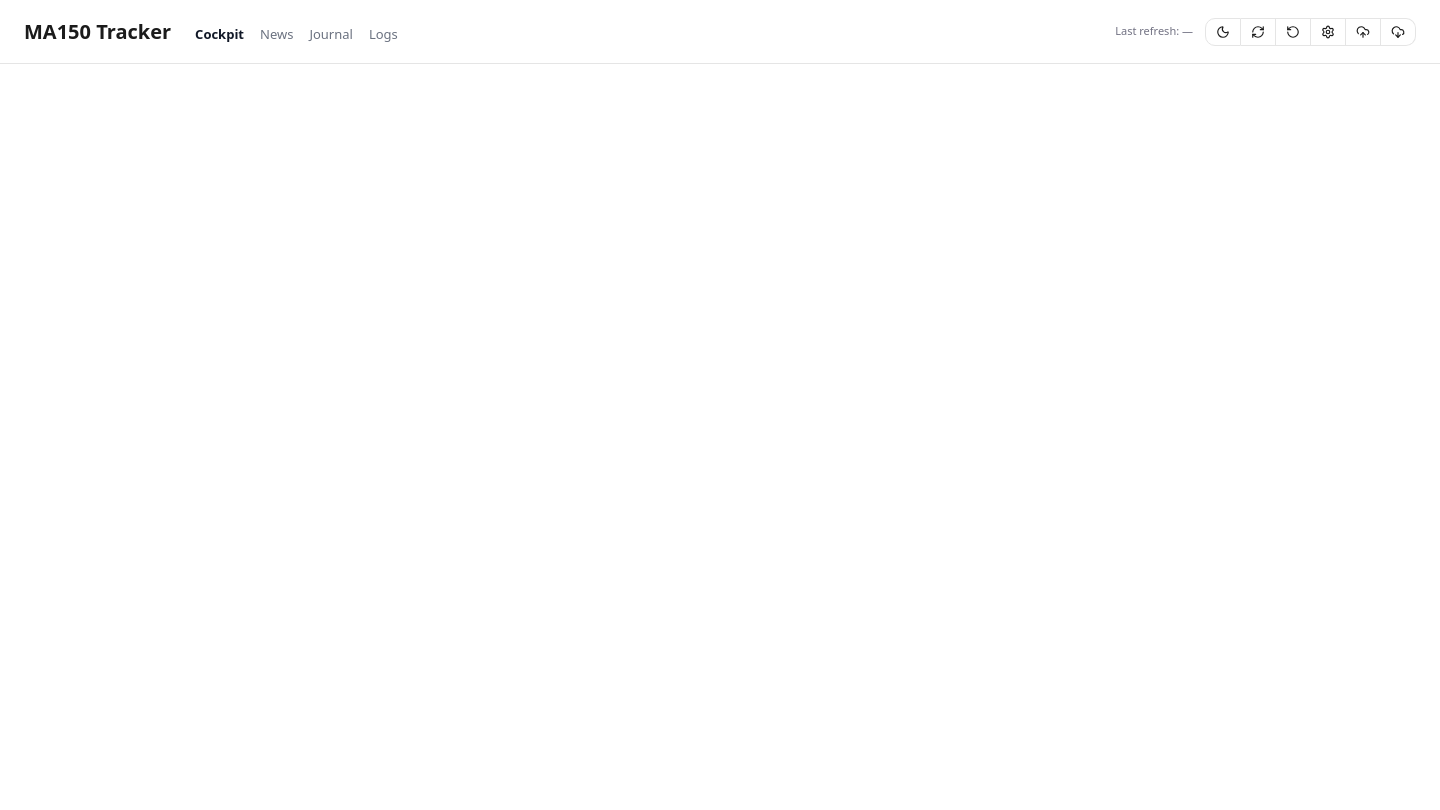
Test case: S13 – settings dialog open/close via TopNav › clicking Cancel in dialog closes it
Click the button named "用户设置" at (1328, 32), box [1311,18,1346,46]
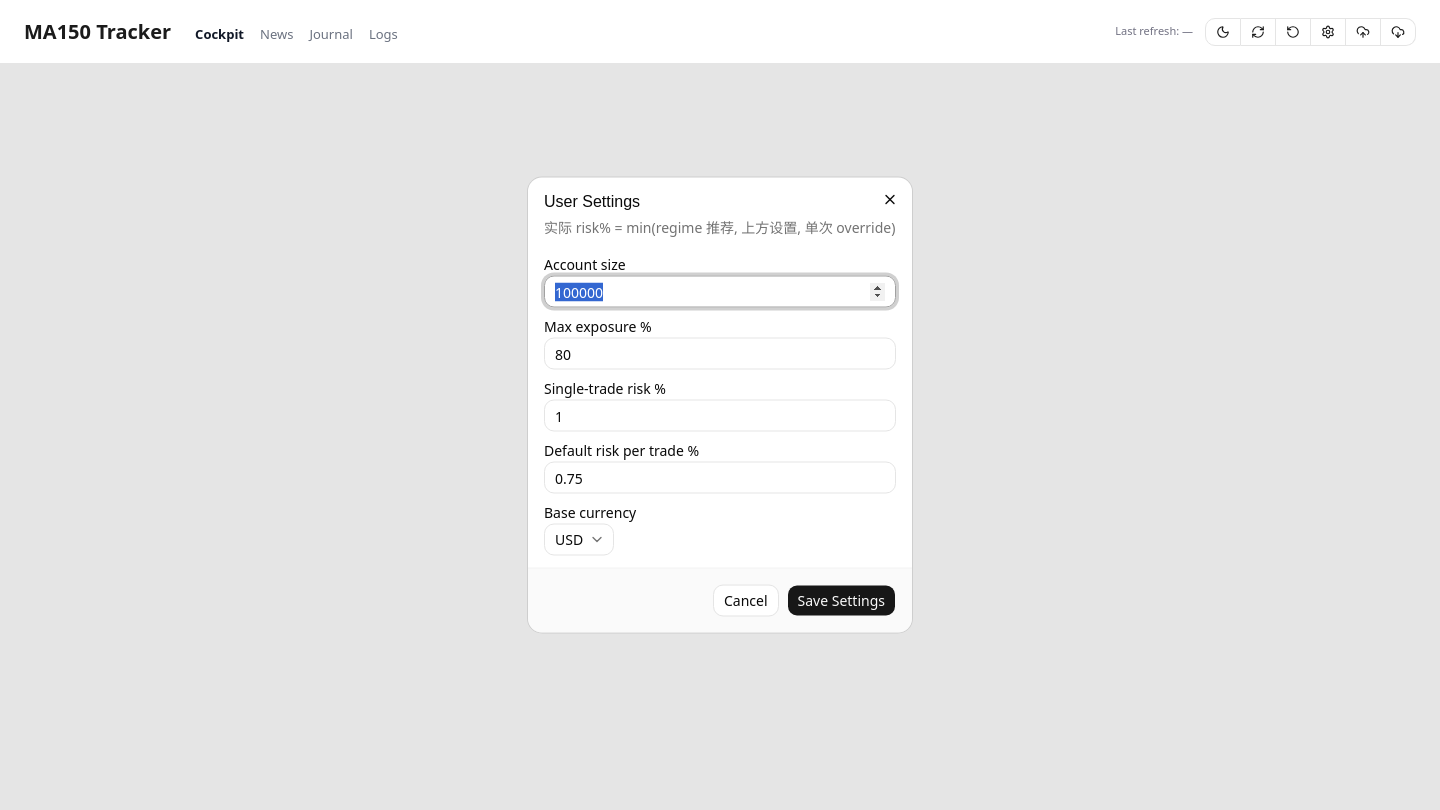
Expected: the button "Cancel" is shown
Click the button "Cancel" at (746, 600), box [713,584,778,616]
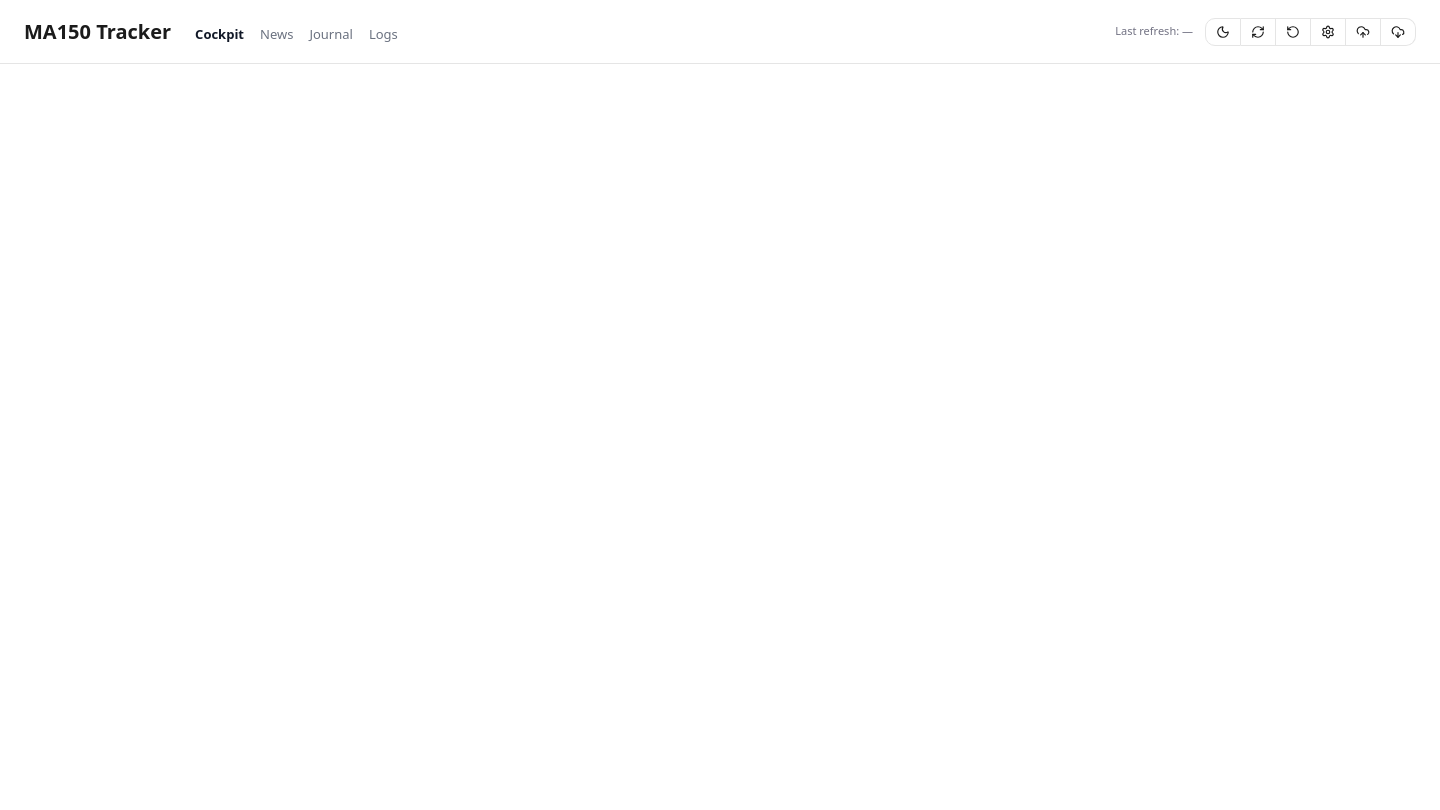
Expected: the heading "User Settings" is gone
